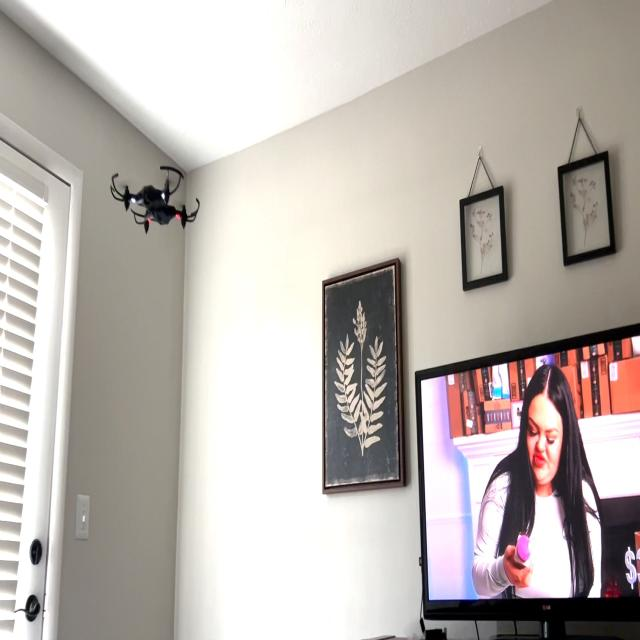drone: (98, 150, 206, 256)
